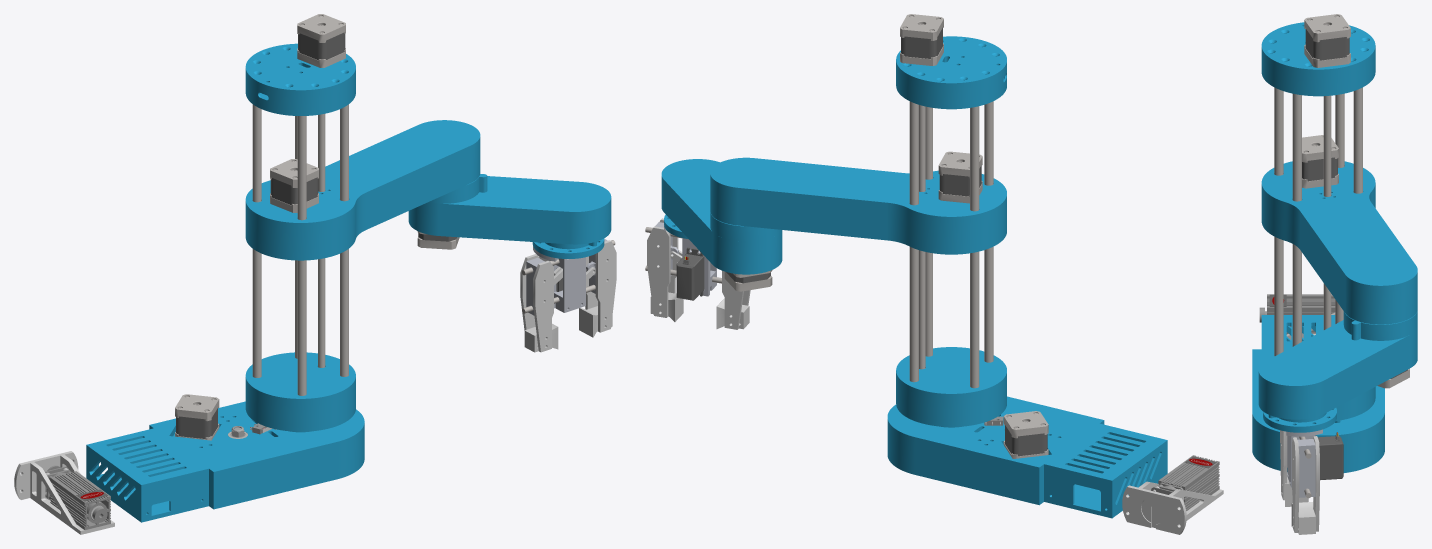
The model's file is arm.glb.
3 renders of one model, left to right at view 1: azimuth 30°, elevation 25°; view 2: azimuth 150°, elevation 25°; view 3: azimuth 270°, elevation 25°, orthographic. The views are drawn at different scales.
Visible parts, largest first — view 1: Object_2, Object_5, Object_3, Object_6; view 2: Object_2, Object_5, Object_3, Object_6; view 3: Object_2, Object_5, Object_3, Object_6.
Part boxes in pixels (x1=…): Object_2: x1=14, y1=68, x2=616, y2=534; Object_5: x1=149, y1=15, x2=364, y2=509; Object_3: x1=270, y1=159, x2=611, y2=258; Object_6: x1=245, y1=14, x2=487, y2=260; Object_2: x1=645, y1=60, x2=1223, y2=534; Object_5: x1=887, y1=15, x2=1104, y2=505; Object_3: x1=661, y1=151, x2=982, y2=291; Object_6: x1=710, y1=14, x2=1006, y2=254; Object_2: x1=1259, y1=46, x2=1417, y2=534; Object_5: x1=1252, y1=15, x2=1384, y2=472; Object_3: x1=1258, y1=135, x2=1417, y2=432; Object_6: x1=1261, y1=14, x2=1417, y2=340.
Bounding box in the file's own units: 713 × 508 × 175.
